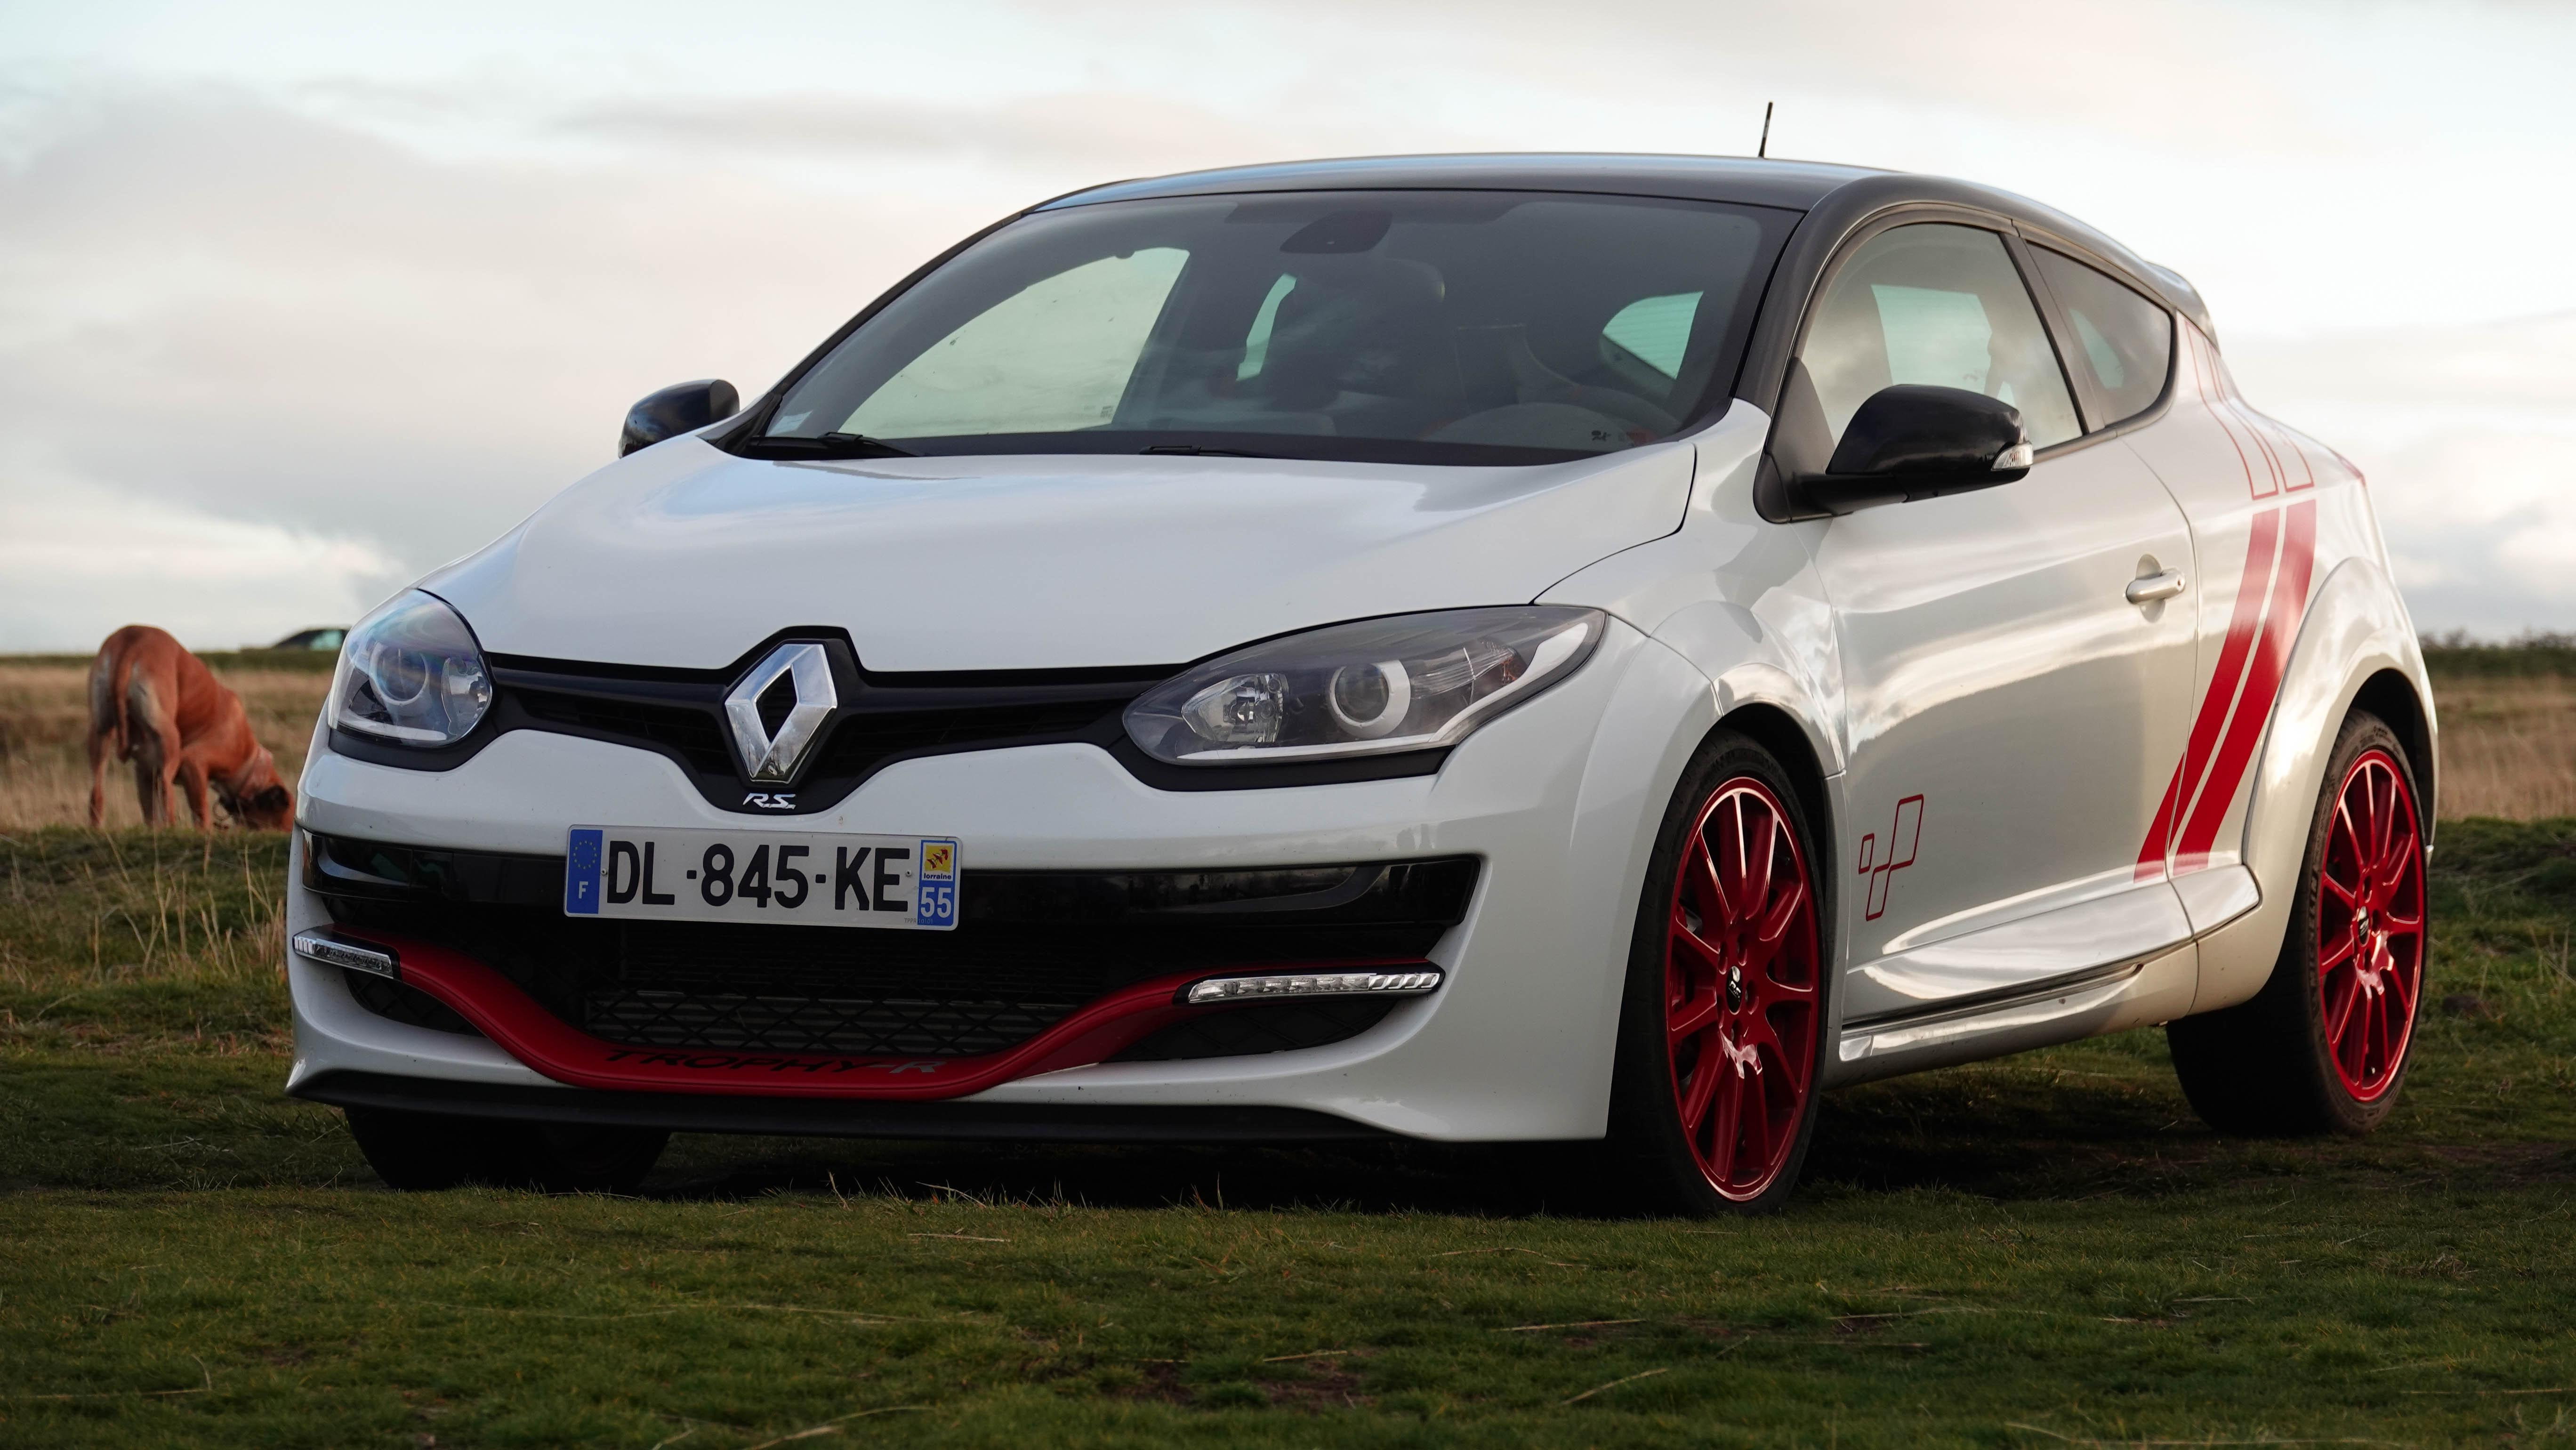Renault: (717, 624, 862, 808)
